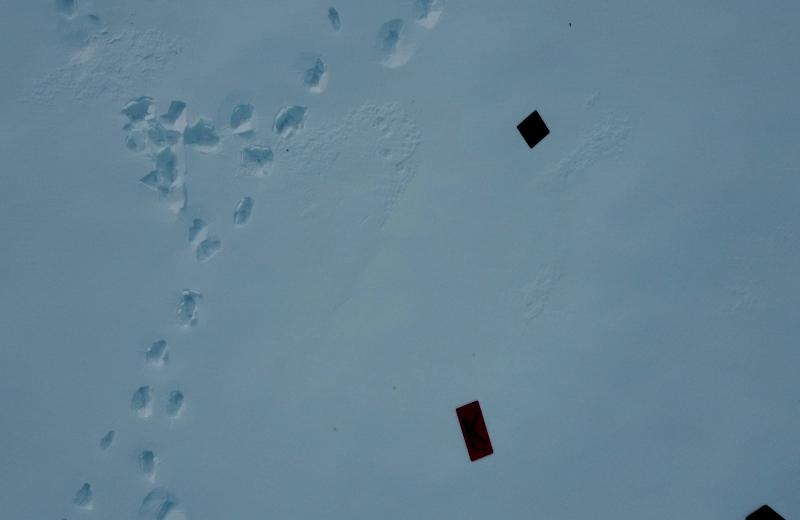Hexagon: (742, 502, 786, 520)
Rectangle: (454, 400, 496, 462)
Square: (518, 110, 551, 146)
